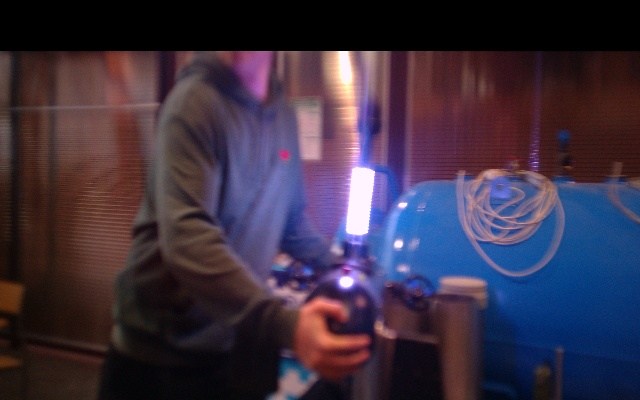white: (345, 168, 374, 236)
